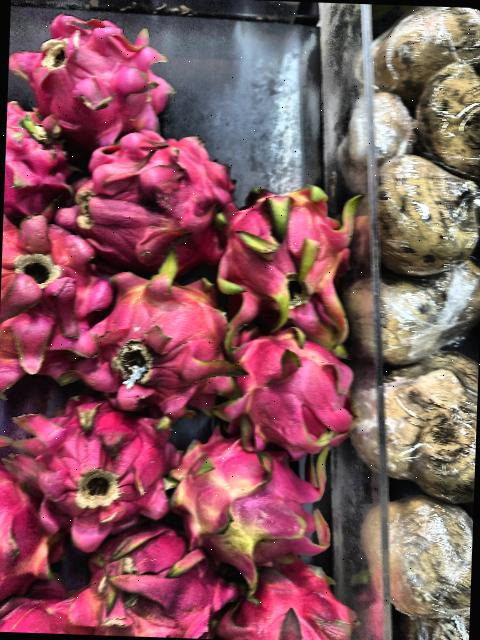buah-naga-belum-matang: (162, 431, 334, 564), (89, 262, 228, 423)
buah-naga-matang: (204, 175, 363, 336), (0, 388, 176, 532), (75, 122, 228, 264), (211, 315, 361, 450), (0, 207, 109, 392), (11, 7, 166, 134), (72, 514, 228, 640), (215, 555, 363, 640), (0, 455, 61, 607), (4, 106, 71, 206)
